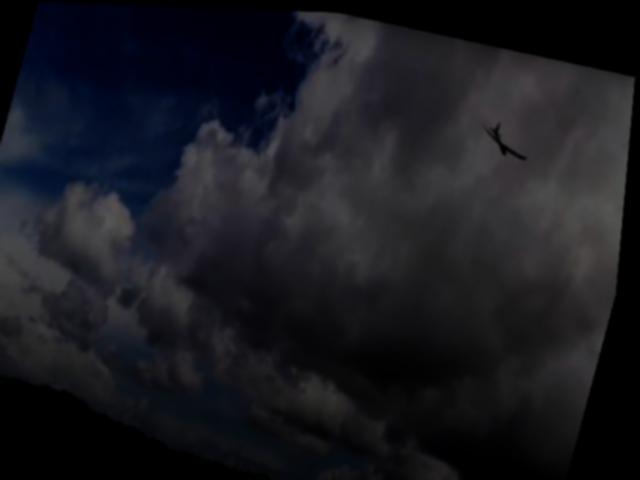iha: (478, 112, 538, 162)
